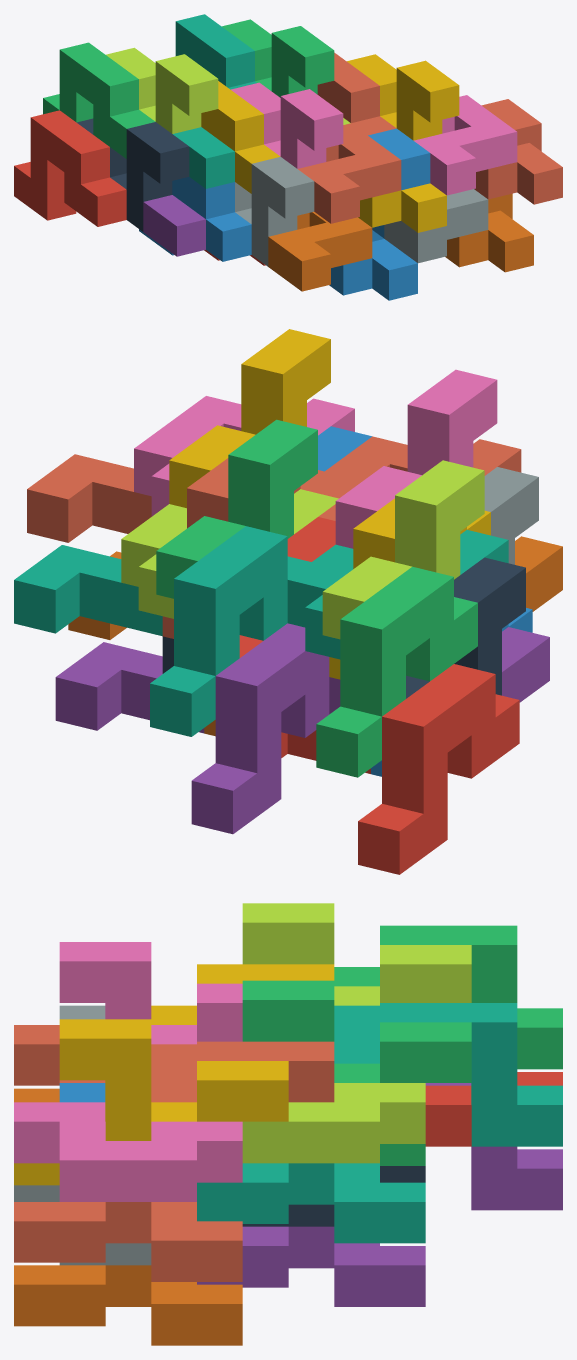
The model's file is tiling.obj.
The picture shows the model from 3 angles, top to bottom: view 1: azimuth 30°, elevation 25°; view 2: azimuth 150°, elevation 25°; view 3: azimuth 270°, elevation 25°; orthographic projection. The views are drawn at different scales.
Parts seen in each view (by area): view 1: copy_1_domain_1, copy_1_domain_3, copy_3_domain_8, copy_3_domain_4, copy_3_domain_2, copy_2_domain_4, copy_2_domain_3, copy_2_domain_8, copy_2_domain_1, copy_2_domain_7, copy_2_domain_2, copy_4_domain_8 (+11 smaller); view 2: copy_1_domain_1, copy_1_domain_3, copy_1_domain_5, copy_1_domain_7, copy_2_domain_3, copy_2_domain_7, copy_2_domain_4, copy_2_domain_8, copy_4_domain_7, copy_4_domain_8, copy_4_domain_5, copy_3_domain_8 (+13 smaller); view 3: copy_3_domain_8, copy_2_domain_8, copy_4_domain_8, copy_4_domain_6, copy_4_domain_7, copy_1_domain_7, copy_2_domain_7, copy_2_domain_3, copy_3_domain_7, copy_4_domain_5, copy_2_domain_4, copy_1_domain_3 (+14 smaller).
Part boxes in pixels (x1,y1,x2,y2): copy_1_domain_1: [14, 110, 126, 226]; copy_1_domain_3: [43, 42, 155, 158]; copy_3_domain_8: [414, 95, 517, 195]; copy_3_domain_4: [298, 123, 401, 223]; copy_3_domain_2: [268, 211, 372, 291]; copy_2_domain_4: [231, 82, 343, 168]; copy_2_domain_3: [106, 47, 218, 133]; copy_2_domain_8: [347, 54, 459, 140]; copy_2_domain_1: [77, 118, 189, 231]; copy_2_domain_7: [222, 19, 334, 97]; copy_2_domain_2: [235, 157, 314, 266]; copy_4_domain_8: [474, 99, 562, 204]; copy_1_domain_1: [358, 664, 519, 874]; copy_1_domain_3: [316, 566, 477, 777]; copy_1_domain_5: [191, 623, 329, 834]; copy_1_domain_7: [150, 526, 311, 736]; copy_2_domain_3: [322, 460, 484, 639]; copy_2_domain_7: [156, 419, 317, 598]; copy_2_domain_4: [335, 369, 497, 548]; copy_2_domain_8: [169, 329, 330, 508]; copy_4_domain_7: [14, 545, 162, 636]; copy_4_domain_8: [27, 454, 151, 542]; copy_4_domain_5: [55, 642, 204, 733]; copy_3_domain_8: [134, 396, 354, 516]; copy_3_domain_8: [14, 1102, 242, 1201]; copy_2_domain_8: [59, 1019, 288, 1140]; copy_4_domain_8: [14, 1202, 242, 1281]; copy_4_domain_6: [14, 1265, 242, 1345]; copy_4_domain_7: [197, 1163, 425, 1243]; copy_1_domain_7: [334, 1003, 562, 1146]; copy_2_domain_7: [242, 980, 471, 1082]; copy_2_domain_3: [242, 903, 471, 1005]; copy_3_domain_7: [242, 1083, 425, 1163]; copy_4_domain_5: [197, 1226, 425, 1306]; copy_2_domain_4: [59, 942, 242, 1044]; copy_1_domain_3: [334, 925, 562, 1069].
Size of the model in its own units: 13 by 6 by 12.
